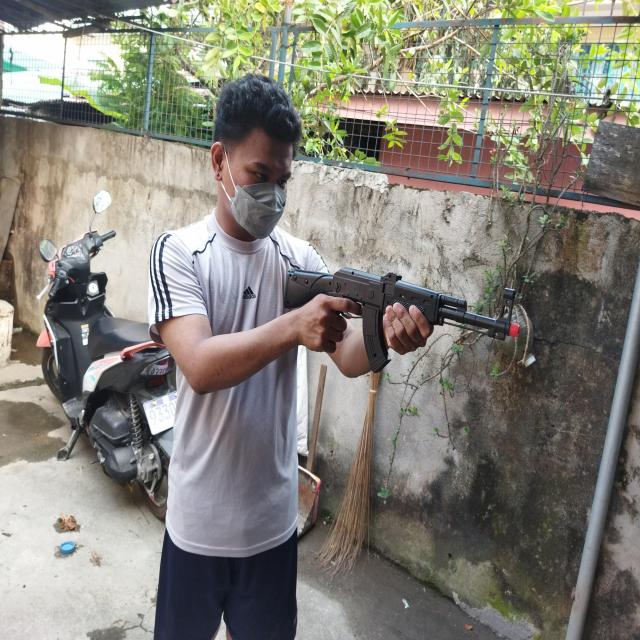rifle: (285, 267, 520, 373)
